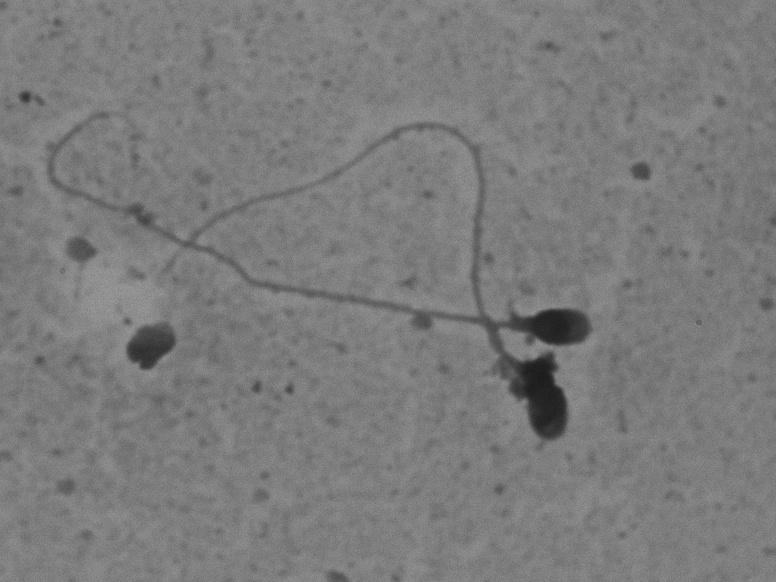Abnormal: (146, 114, 584, 458)
Normal: (32, 101, 607, 354)
